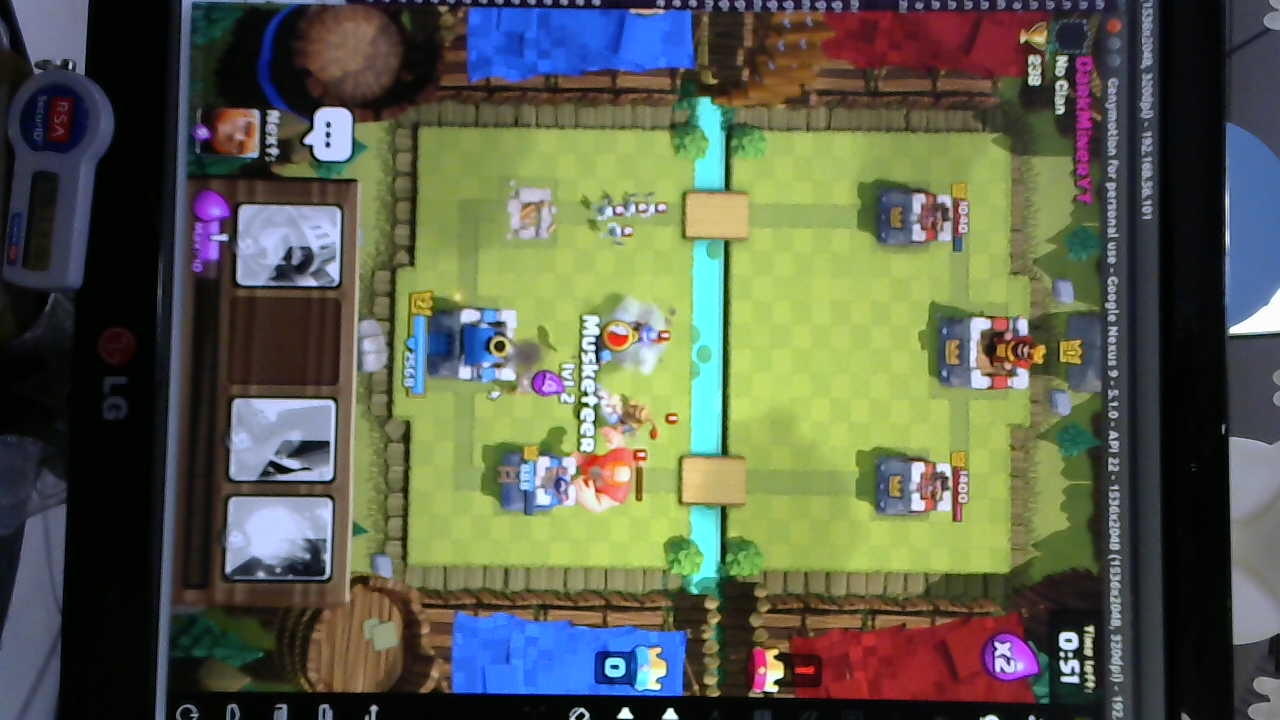musketeerE: (601, 312, 674, 358)
